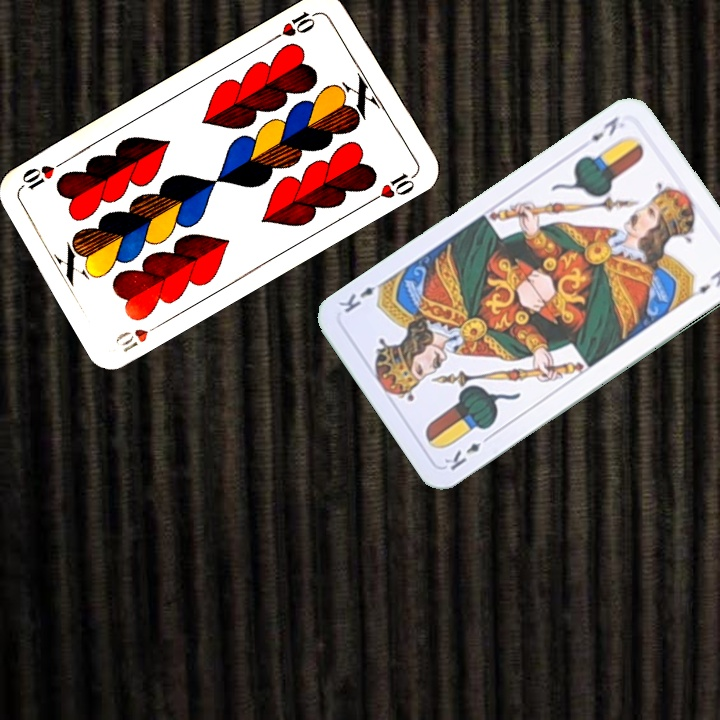EK: (440, 430, 494, 473), (586, 112, 622, 144)
H10: (118, 317, 167, 356), (269, 7, 322, 43)
